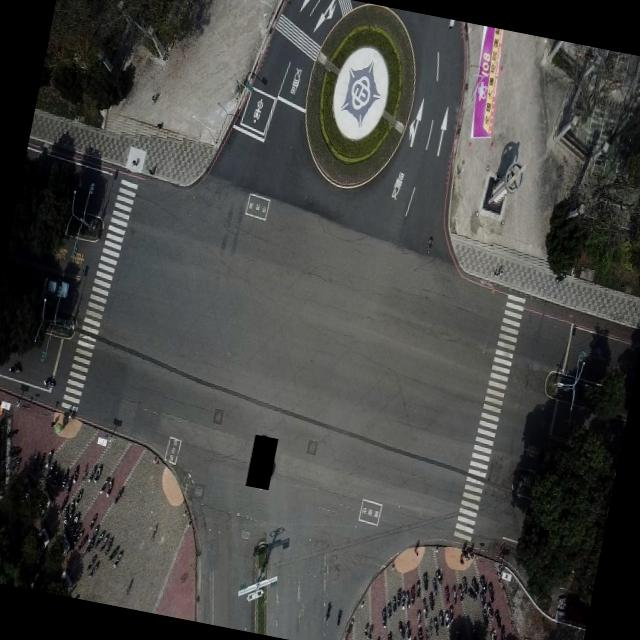car: (36, 258, 79, 312)
